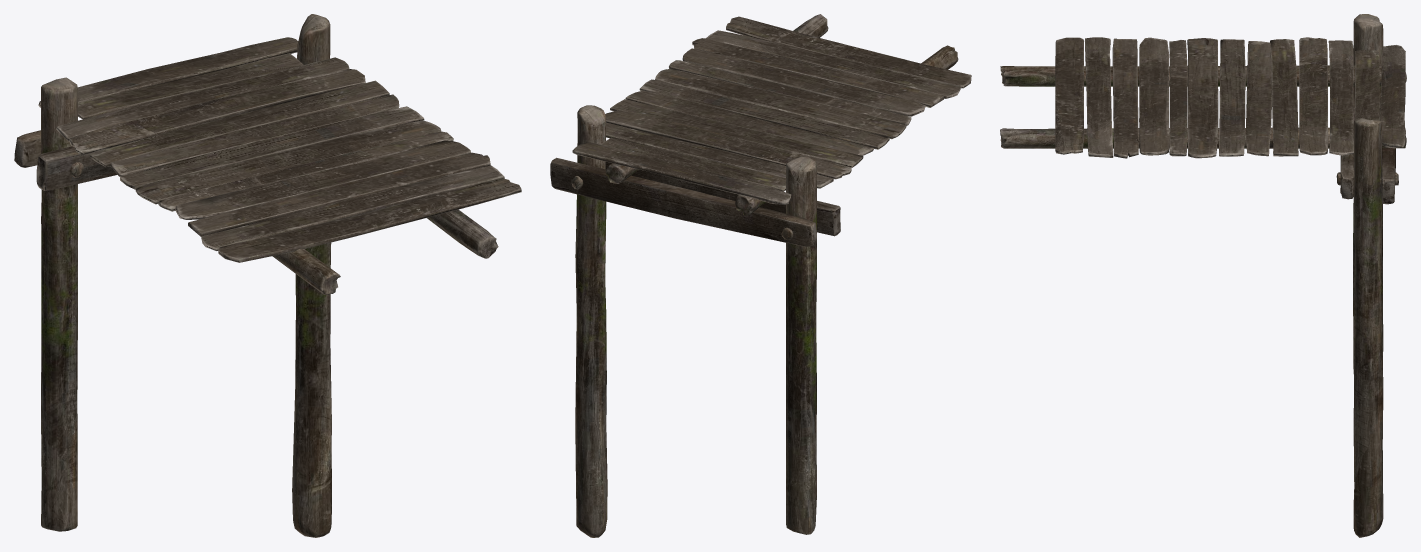
Rendered from wooden_pier_section.glb.
The picture shows the model from 3 angles, left to right: view 1: azimuth 30°, elevation 25°; view 2: azimuth 150°, elevation 25°; view 3: azimuth 270°, elevation 25°; orthographic projection. The views are drawn at different scales.
Parts seen in each view (by area): view 1: wooden_pier_section; view 2: wooden_pier_section; view 3: wooden_pier_section.
Boxes of the visible parts, x1=… form: wooden_pier_section: x1=14, y1=14, x2=521, y2=537; wooden_pier_section: x1=550, y1=14, x2=971, y2=537; wooden_pier_section: x1=1000, y1=14, x2=1406, y2=537.
Bounding box in the file's own units: 2.5 × 3.84 × 3.39.
Materials: 2 (2 with a texture image).
